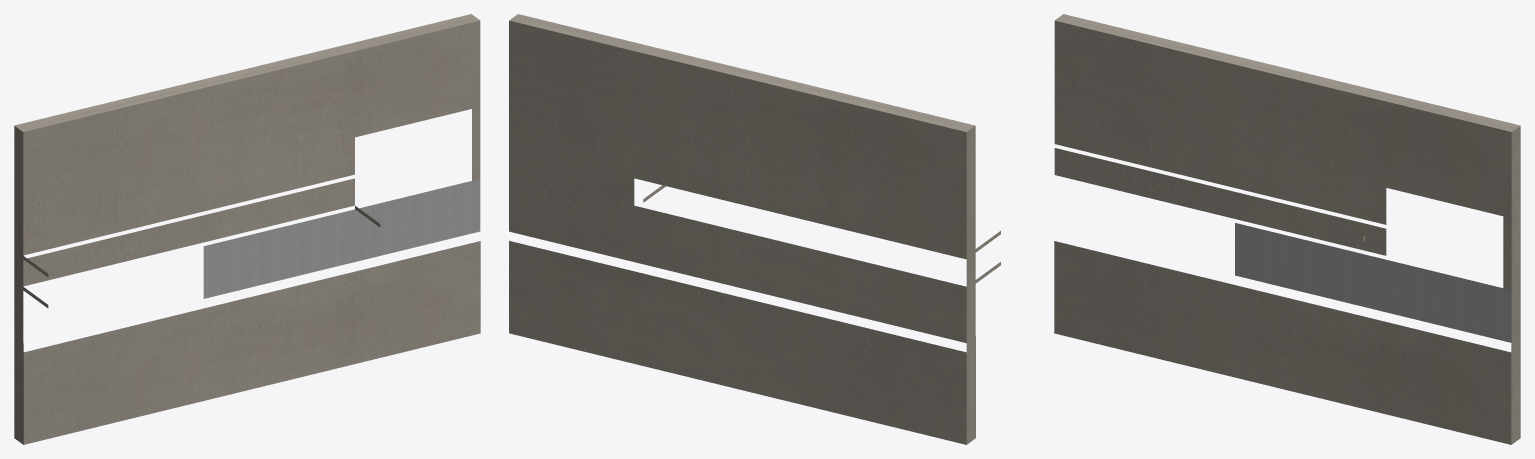
File: backwall.glb
The picture shows the model from 3 angles, left to right: view 1: azimuth 30°, elevation 25°; view 2: azimuth 150°, elevation 25°; view 3: azimuth 330°, elevation 25°; orthographic projection.
Visible parts, largest first — view 1: Wallup.001, WallupM; view 2: Wallup.001; view 3: Wallup.001, WallupM.
Boxes of the visible parts, box(x1,y1,x2,y2) form: Wallup.001: box(14, 14, 480, 444); WallupM: box(203, 179, 480, 298); Wallup.001: box(509, 14, 1000, 444); Wallup.001: box(1054, 14, 1520, 444); WallupM: box(1235, 223, 1511, 342).
Size of the model in its own units: 163 by 107 by 21.18.
Materials: 2 (2 with a texture image).
